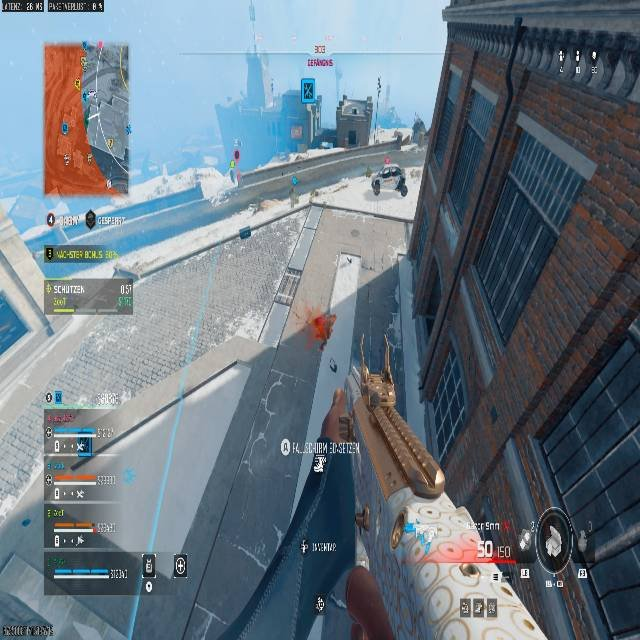head: (234, 150, 239, 158)
player: (367, 161, 409, 197), (228, 150, 242, 186), (392, 129, 402, 148)
